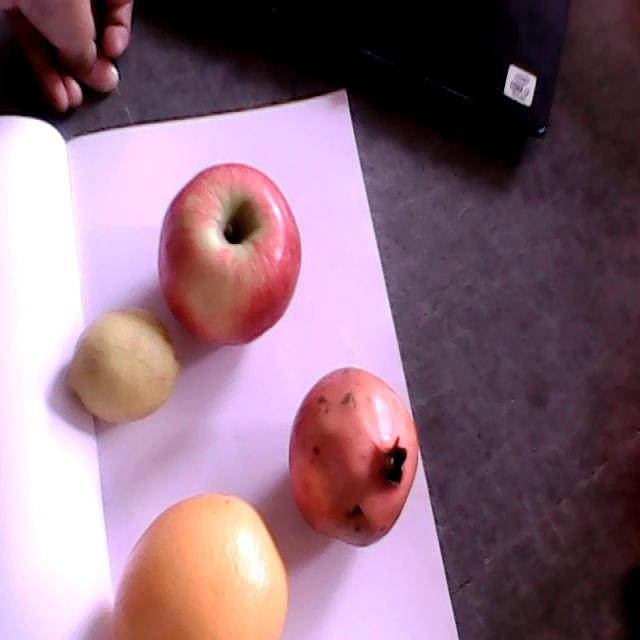apple: (160, 162, 302, 346)
lemon: (66, 308, 180, 423)
orange: (111, 490, 286, 639)
pomegranate: (288, 368, 419, 549)
